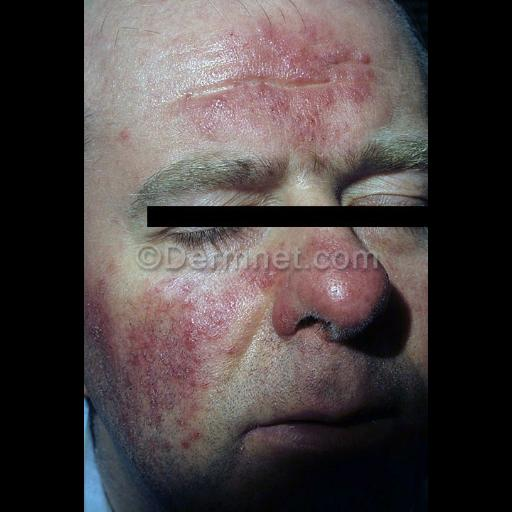Skin_Lesion: (317, 248, 369, 312), (130, 344, 166, 410), (84, 276, 110, 360), (186, 81, 224, 131), (330, 38, 366, 88), (258, 12, 286, 64), (302, 102, 332, 150), (150, 278, 176, 332), (254, 80, 290, 116), (244, 257, 276, 297), (170, 352, 202, 392), (178, 274, 200, 308), (182, 315, 200, 351), (208, 302, 222, 344), (118, 128, 130, 148), (360, 45, 372, 65), (190, 424, 202, 442), (184, 430, 194, 450), (106, 255, 116, 273)
